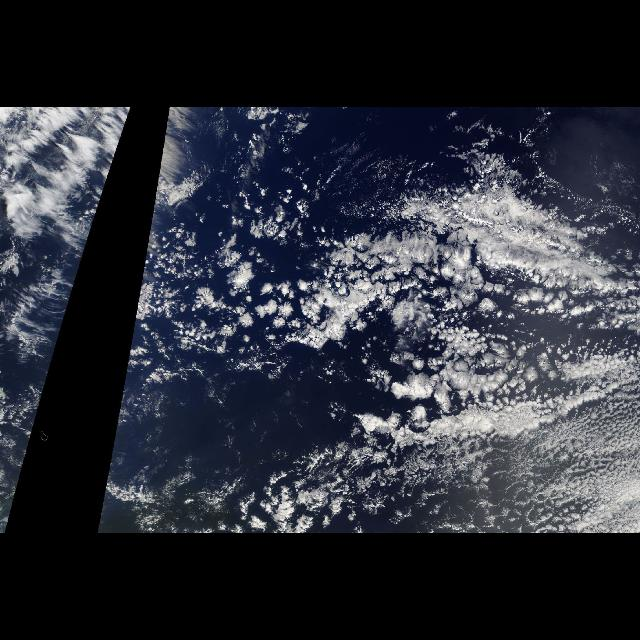Flower: (175, 178, 639, 414)
Sugar: (212, 259, 326, 386)
